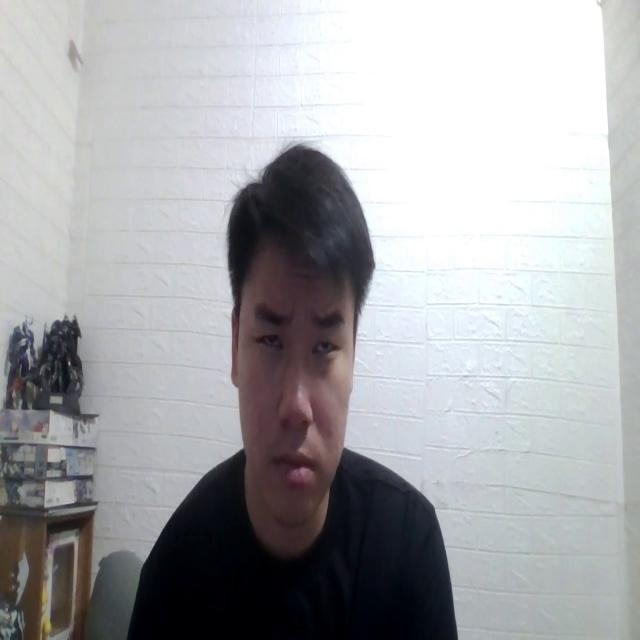student: (119, 141, 454, 640)
